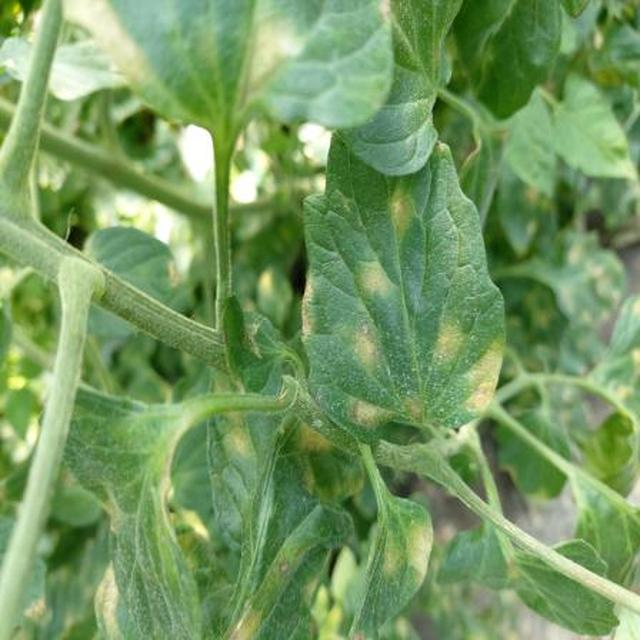Leaf Mold: (123, 210, 577, 640)
